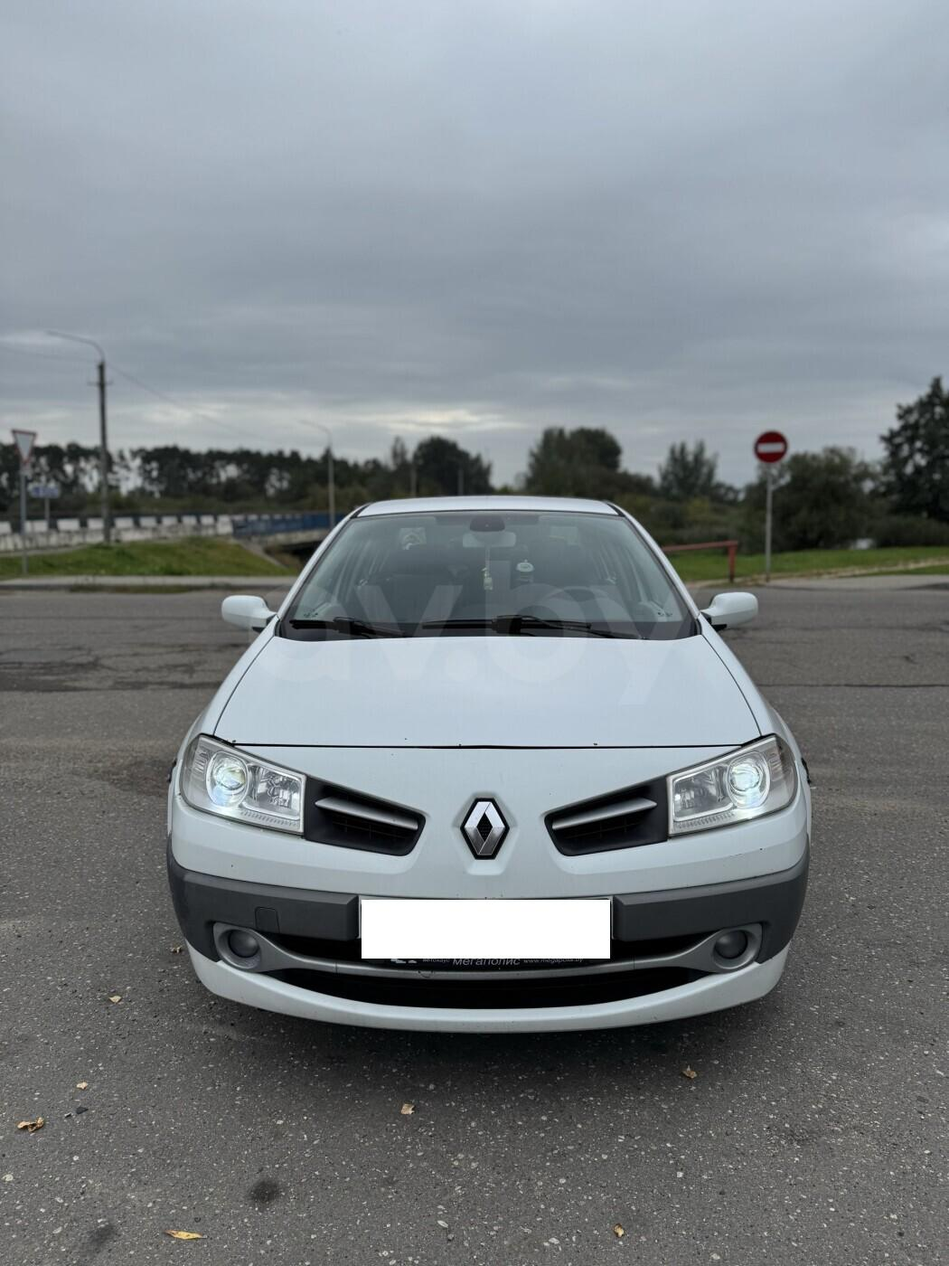Megane_2005-2009: (164, 483, 837, 1053)
